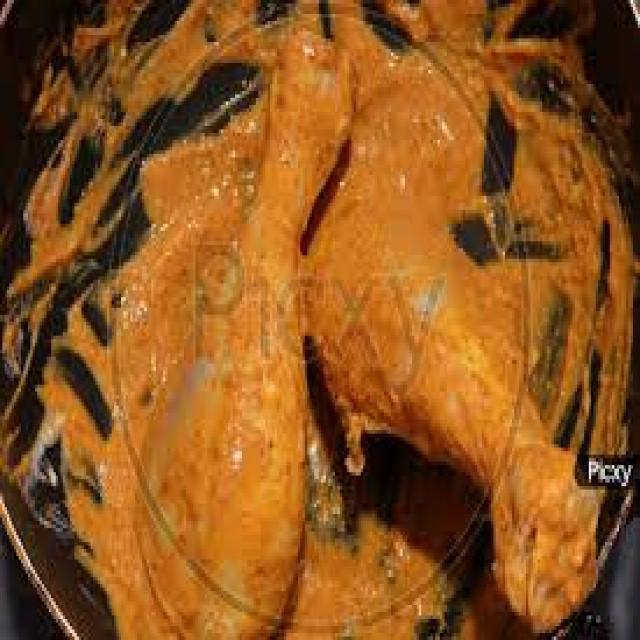leg: (152, 29, 348, 640), (320, 197, 594, 620)
